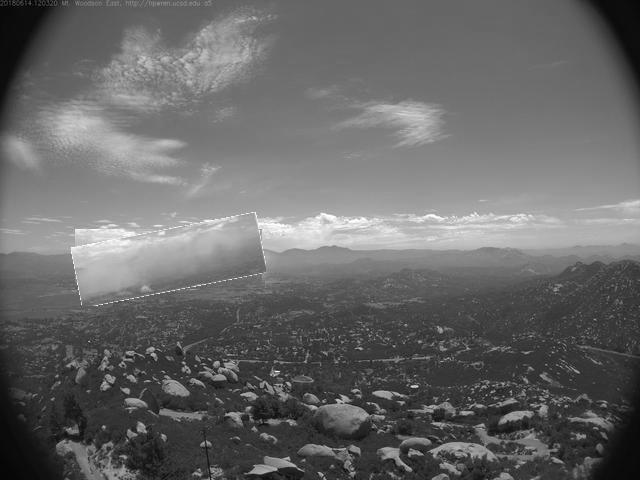smoke: (74, 222, 266, 300)
